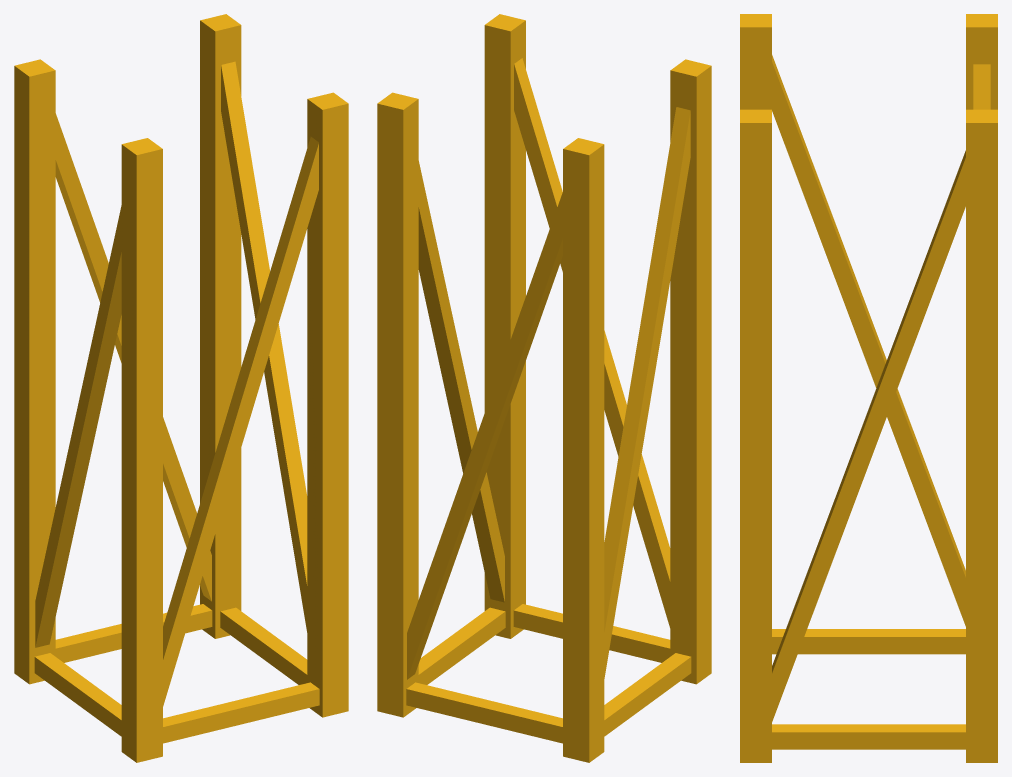
File: crane_mast.glb
The picture shows the model from 3 angles, left to right: view 1: azimuth 30°, elevation 25°; view 2: azimuth 150°, elevation 25°; view 3: azimuth 270°, elevation 25°; orthographic projection. The views are drawn at different scales.
Parts seen in each view (by area): view 1: Cube, Cube.001, Cube.003, Cube.002, Cube.005, Cube.007, Cube.011, Cube.009, Cube.004, Cube.010, Cube.006, Cube.008; view 2: Cube.003, Cube.002, Cube, Cube.001, Cube.011, Cube.009, Cube.007, Cube.005, Cube.008, Cube.004, Cube.010, Cube.006; view 3: Cube.001, Cube.002, Cube.007, Cube.011, Cube.006, Cube.010, Cube, Cube.003, Cube.009.
Boxes of the visible parts, bbox=[...] form: Cube: bbox=[121, 138, 162, 762]; Cube.001: bbox=[307, 92, 348, 717]; Cube.003: bbox=[14, 59, 55, 684]; Cube.002: bbox=[200, 14, 241, 638]; Cube.005: bbox=[163, 136, 318, 706]; Cube.007: bbox=[221, 61, 307, 632]; Cube.011: bbox=[35, 205, 121, 647]; Cube.009: bbox=[55, 113, 211, 601]; Cube.004: bbox=[163, 682, 319, 743]; Cube.010: bbox=[34, 653, 121, 736]; Cube.006: bbox=[220, 607, 307, 684]; Cube.008: bbox=[55, 604, 212, 662]; Cube.003: bbox=[563, 138, 604, 762]; Cube.002: bbox=[377, 92, 418, 717]; Cube: bbox=[670, 59, 711, 684]; Cube.001: bbox=[484, 14, 525, 638]; Cube.011: bbox=[604, 107, 690, 678]; Cube.009: bbox=[407, 192, 562, 679]; Cube.007: bbox=[418, 161, 504, 602]; Cube.005: bbox=[514, 58, 670, 627]; Cube.008: bbox=[406, 682, 562, 743]; Cube.004: bbox=[513, 604, 670, 662]; Cube.010: bbox=[604, 653, 691, 736]; Cube.006: bbox=[418, 607, 505, 684]; Cube.001: bbox=[740, 109, 771, 762]; Cube.002: bbox=[966, 109, 997, 762]; Cube.007: bbox=[772, 150, 965, 721]; Cube.011: bbox=[772, 55, 965, 626]; Cube.006: bbox=[772, 724, 965, 749]; Cube.010: bbox=[772, 629, 965, 654]; Cube: bbox=[740, 14, 771, 109]; Cube.003: bbox=[966, 14, 997, 109]; Cube.009: bbox=[973, 64, 990, 109].
Bounding box in the file's own units: 0.365 × 1 × 0.365.
